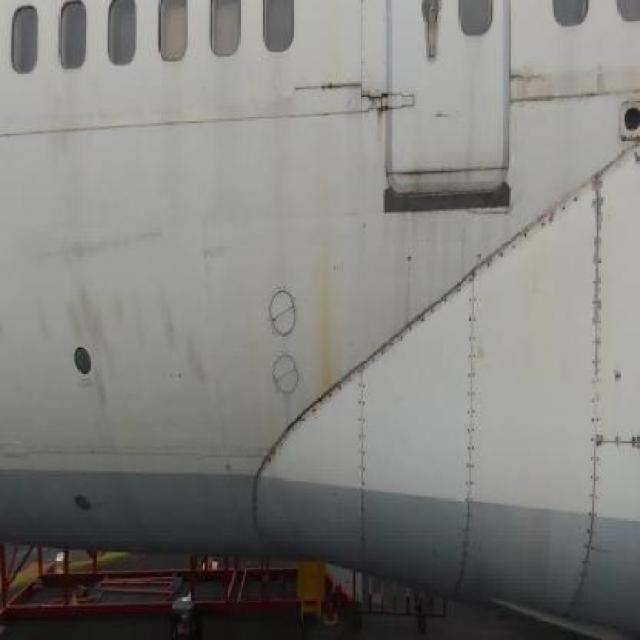Missing-Rivet: (583, 164, 614, 573), (267, 376, 350, 476), (486, 189, 582, 273), (376, 281, 461, 361), (462, 268, 478, 584), (352, 356, 372, 547)
Rust: (304, 218, 338, 390), (369, 82, 396, 162)
Scartch: (20, 283, 218, 406), (46, 220, 163, 274), (510, 64, 612, 110), (196, 234, 229, 274)
